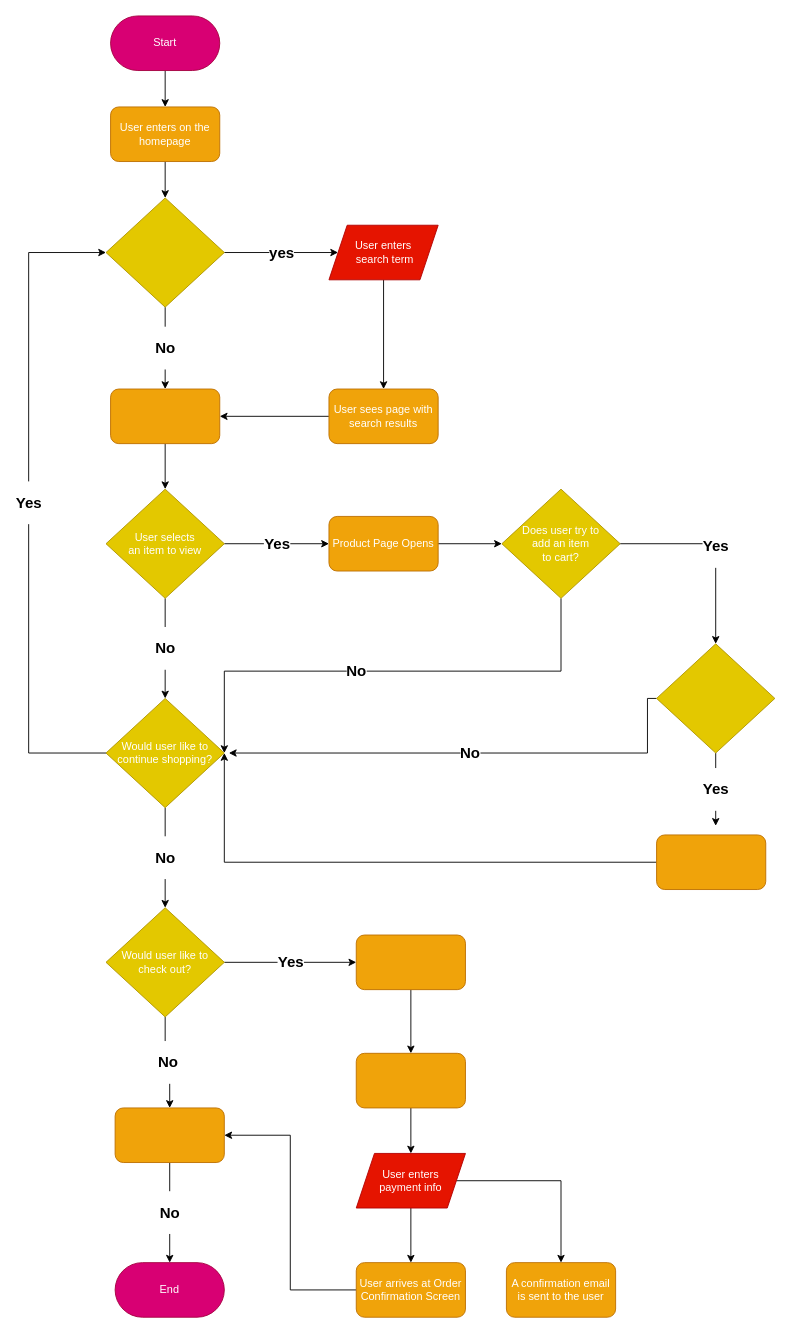
The diagram is 791 pixels wide and 1333 high, and some of its shapes have lost their labels. Here are the shapes that lost their labels. From the top down, the centre of each, then its label:
At point (164, 252): "Does user want to search for products?".
At point (165, 416): "User looks over products on current page".
At point (715, 698): "User is asked for confirmation to add to cart. Does user confirm?".
At point (711, 862): "Item is added to cart".
At point (410, 962): "User arrives at View Cart screen".
At point (410, 1080): "User arrives at View Payment screen".
At point (169, 1135): "User leaves website".
